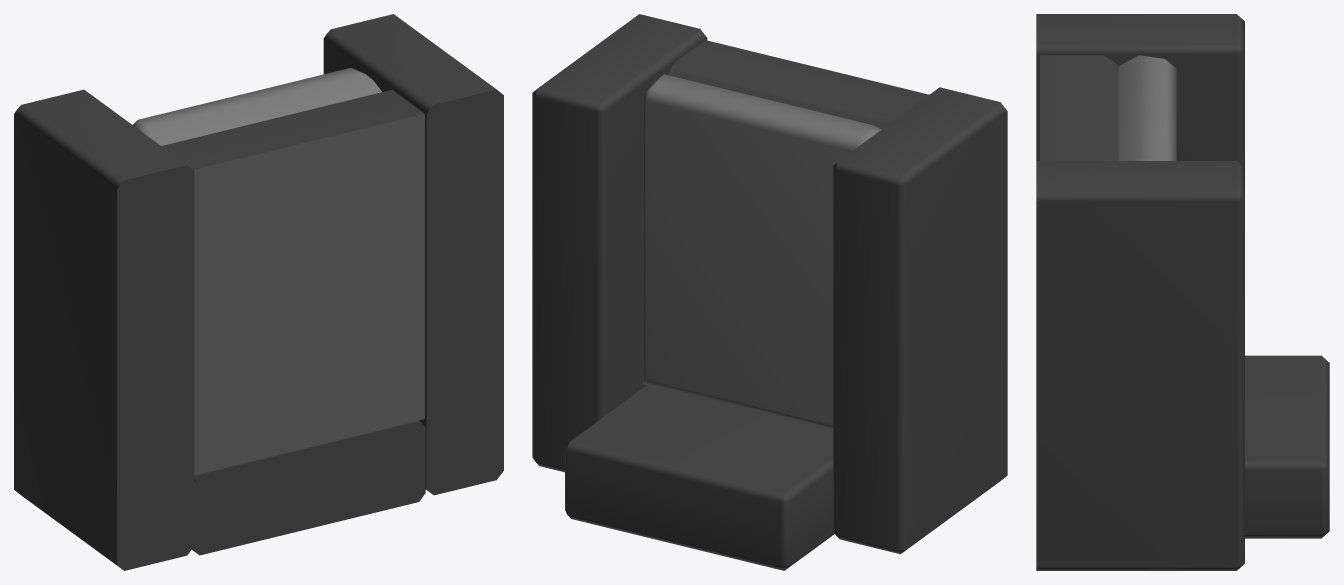
Rendered from armchair-b.glb.
3 renders of one model, left to right at view 1: azimuth 30°, elevation 25°; view 2: azimuth 150°, elevation 25°; view 3: azimuth 270°, elevation 25°, orthographic. The views are drawn at different scales.
Visible parts, largest first — view 1: armchair_002; view 2: armchair_002; view 3: armchair_002.
Part boxes in pixels (box(x1,y1,x2,y2)): armchair_002: box(14, 14, 503, 570); armchair_002: box(532, 14, 1007, 570); armchair_002: box(1036, 14, 1329, 570).
Size of the model in its own units: 1.1 by 1.07 by 0.741.
Materials: 1 (1 with a texture image).
